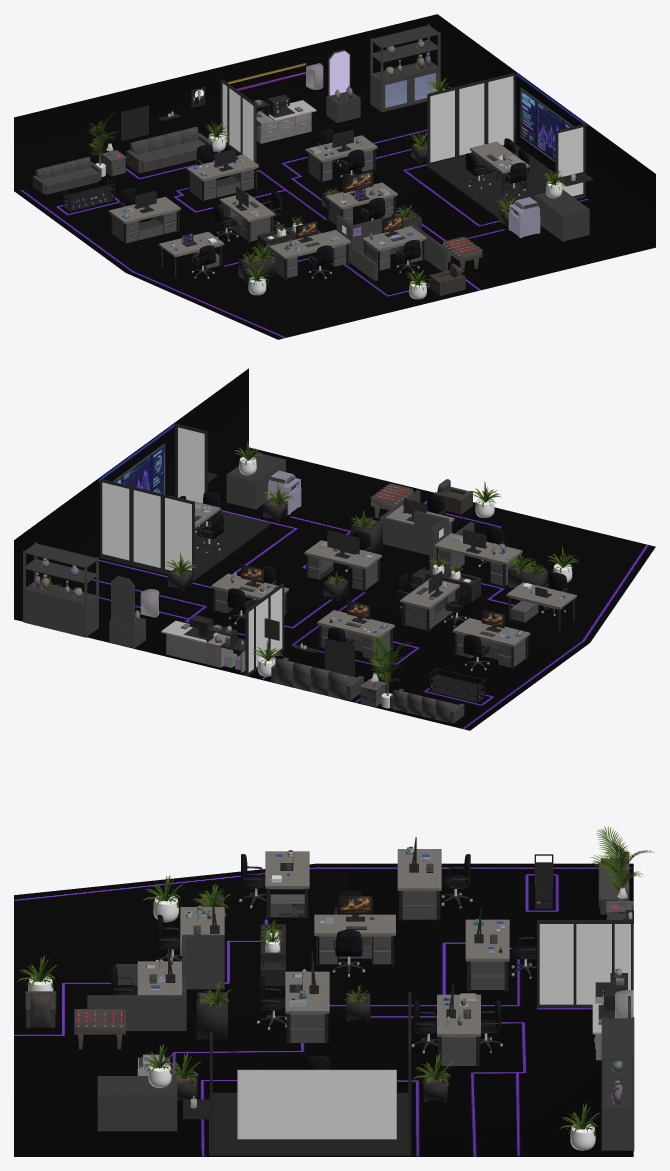
Rendered from office.mobile.b016323b07bd.glb.
3 views of the same model, one above another, from view 1: azimuth 30°, elevation 25°; view 2: azimuth 150°, elevation 25°; view 3: azimuth 270°, elevation 25° (orthographic). The views are drawn at different scales.
Parts seen in each view (by area): view 1: Plane.005, wall 1, Plane.006, Plane.020, Cube.002, Cube.003, Plane.031, Cube.021, Cube.016, instance_0 (×2), instance_4 (×2), instance_3 (×2) (+8 smaller); view 2: Plane.005, wall 1, Plane.006, Plane.020, Cube.002, Cube.003, Cube.016, Cube.021, Plane.031, instance_2 (×2), instance_1, instance_0 (+10 smaller); view 3: Plane.005, wall 1, Plane.006, Cube.003, Plane.020, Cube.016, instance_2 (×3), instance_1 (×2), instance_0 (×2), instance_3 (×2), model_4, Cube.021 (+9 smaller).
Boxes of the visible parts, box(x1,y1,x2,y2) form: Plane.005: box(14, 14, 655, 339); wall 1: box(326, 24, 589, 280); Plane.006: box(220, 72, 585, 218); Plane.020: box(113, 150, 422, 278); Cube.002: box(32, 126, 212, 194); Cube.003: box(158, 192, 426, 279); Plane.031: box(106, 63, 593, 241); Cube.021: box(254, 94, 316, 143); Cube.016: box(238, 142, 508, 282); instance_0 (×2): box(186, 154, 258, 278); instance_4 (×2): box(396, 141, 529, 273); instance_3 (×2): box(308, 182, 397, 279); Plane.005: box(14, 368, 655, 730); wall 1: box(23, 443, 474, 648); Plane.006: box(100, 424, 284, 676); Plane.020: box(215, 523, 525, 667); Cube.002: box(271, 657, 464, 723); Cube.003: box(386, 505, 576, 631); Cube.016: box(168, 497, 547, 602); Cube.021: box(161, 615, 245, 672); Plane.031: box(140, 472, 532, 687); instance_2 (×2): box(211, 573, 489, 671); instance_1: box(452, 618, 530, 669); instance_0: box(317, 610, 394, 660); Plane.005: box(14, 863, 633, 1156); wall 1: box(74, 934, 634, 1150); Plane.006: box(209, 920, 633, 1155); Cube.003: box(137, 851, 395, 995); Plane.020: box(290, 891, 504, 1065); Cube.016: box(173, 894, 447, 1102); instance_2 (×3): box(338, 854, 480, 1066); instance_1 (×2): box(332, 849, 441, 977); instance_0 (×2): box(239, 854, 509, 991); instance_3 (×2): box(155, 914, 329, 1043); model_4: box(590, 826, 654, 900); Cube.021: box(592, 968, 627, 1060).
Size of the model in its own units: 14.5 by 2.55 by 13.41.
31 materials, 28 textured.
